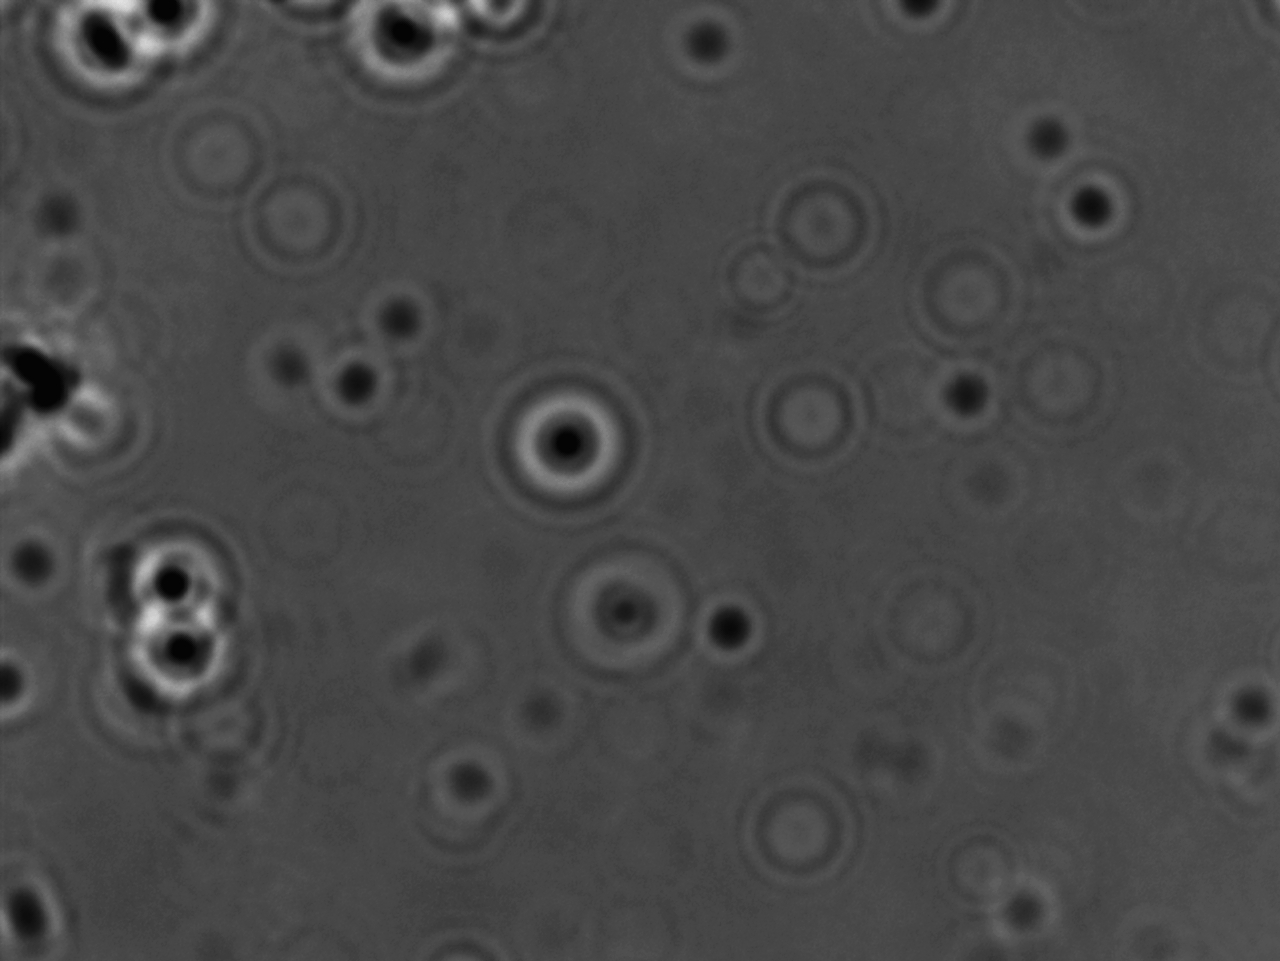depth:-24: (473, 363, 640, 522), (103, 502, 243, 633), (119, 600, 252, 716)
